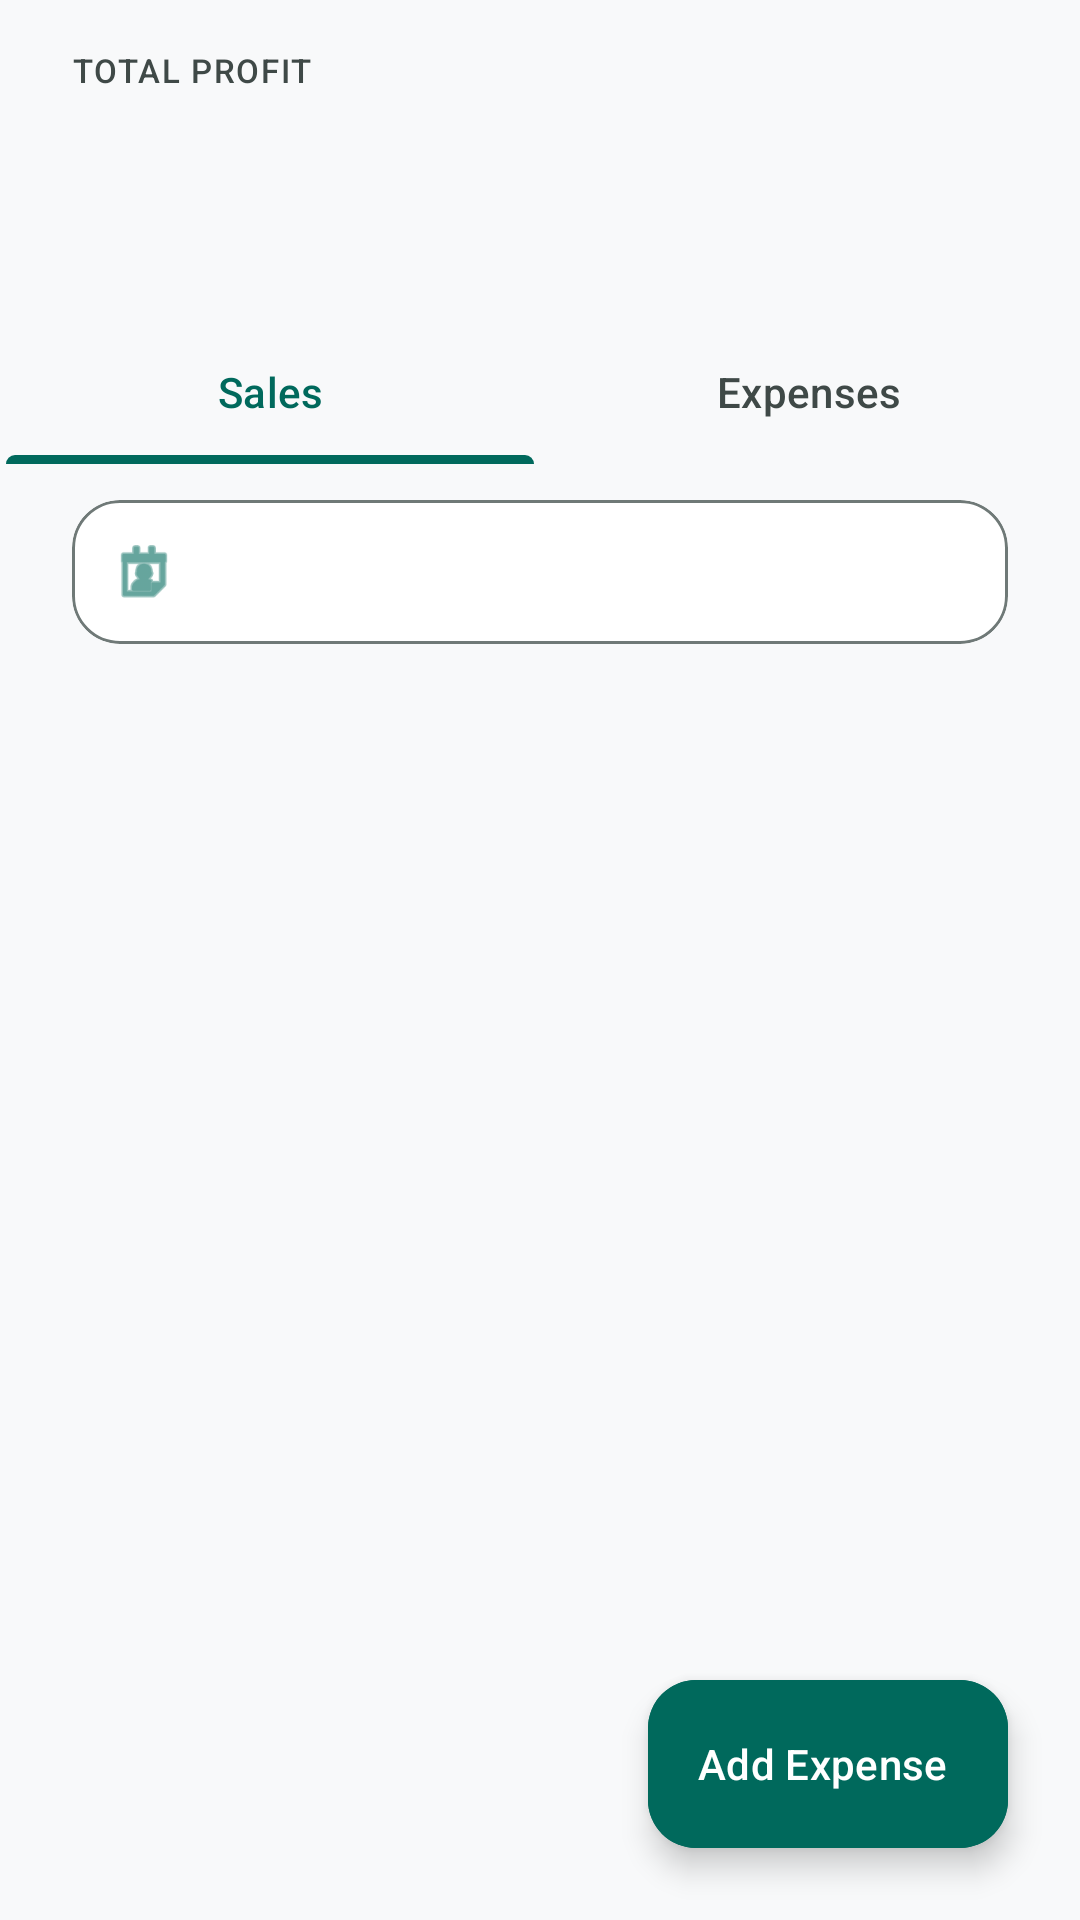

Point at icon controls on the screen. Image size 1080w x 1920h, points as (x=x, y=y).
calendar: (x=144, y=571)
